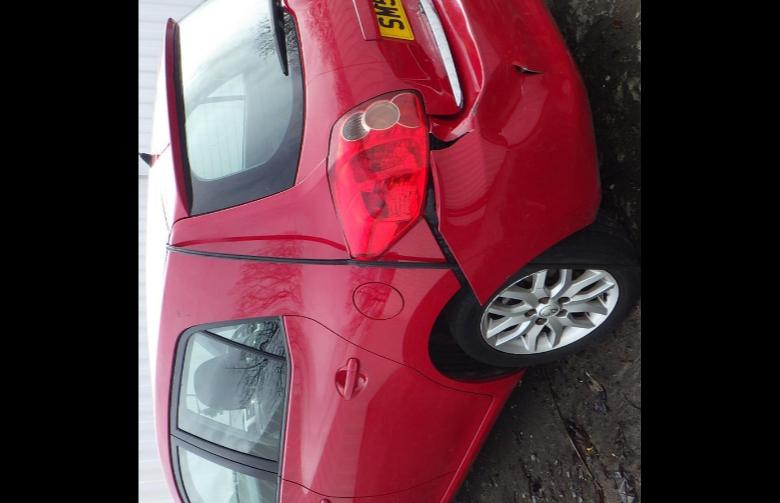Broken part: (420, 0, 602, 304)
Dent: (367, 0, 450, 96), (474, 56, 548, 146)
